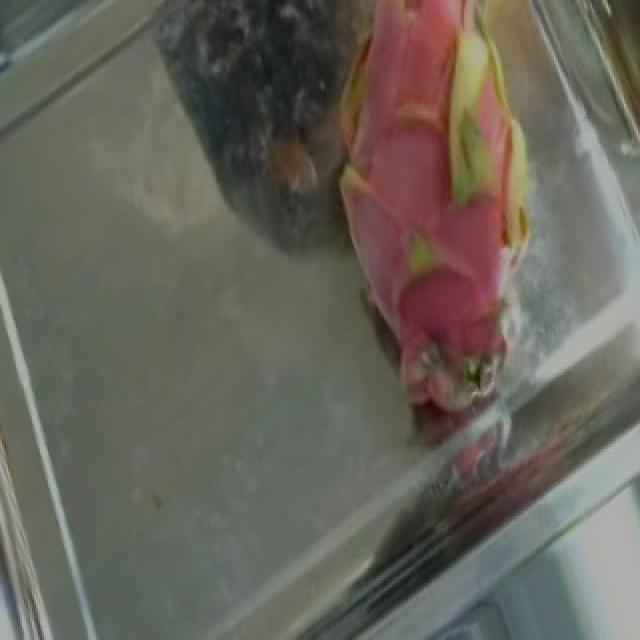fruit: (234, 2, 640, 432)
